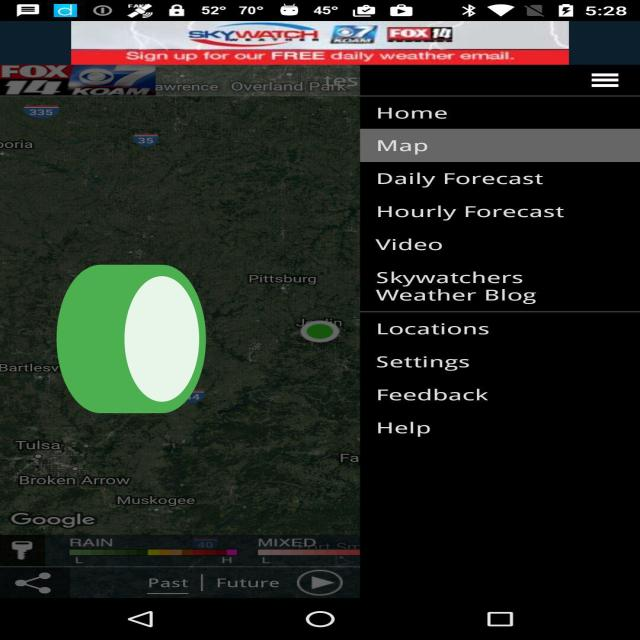social proof: (50, 208, 213, 482)
